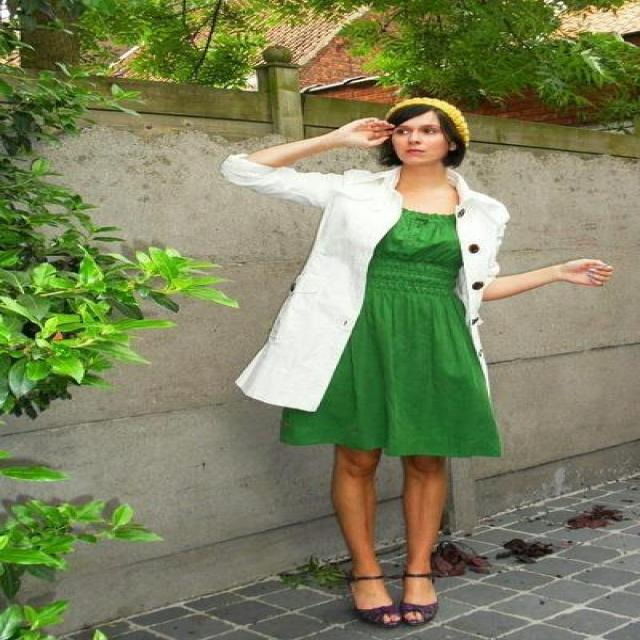dress: (280, 208, 499, 461)
jacket: (221, 154, 507, 410)
shoe: (346, 590, 436, 631)
